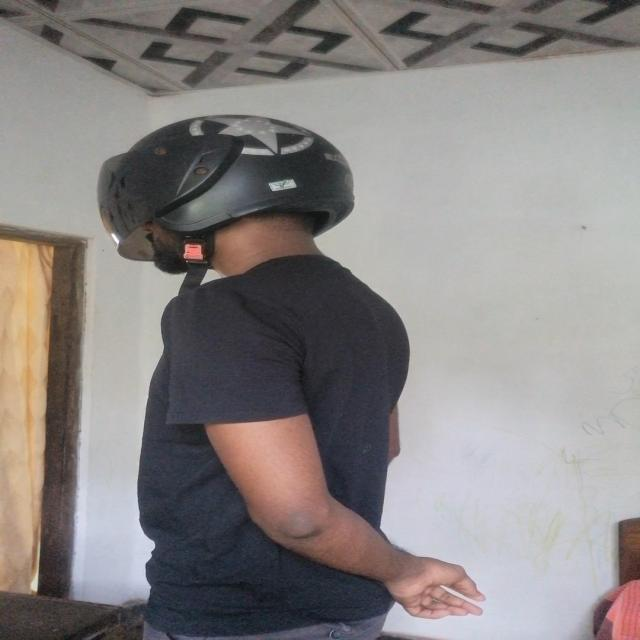Helmet_Wearer: (75, 110, 379, 329)
Person: (94, 107, 481, 640)
